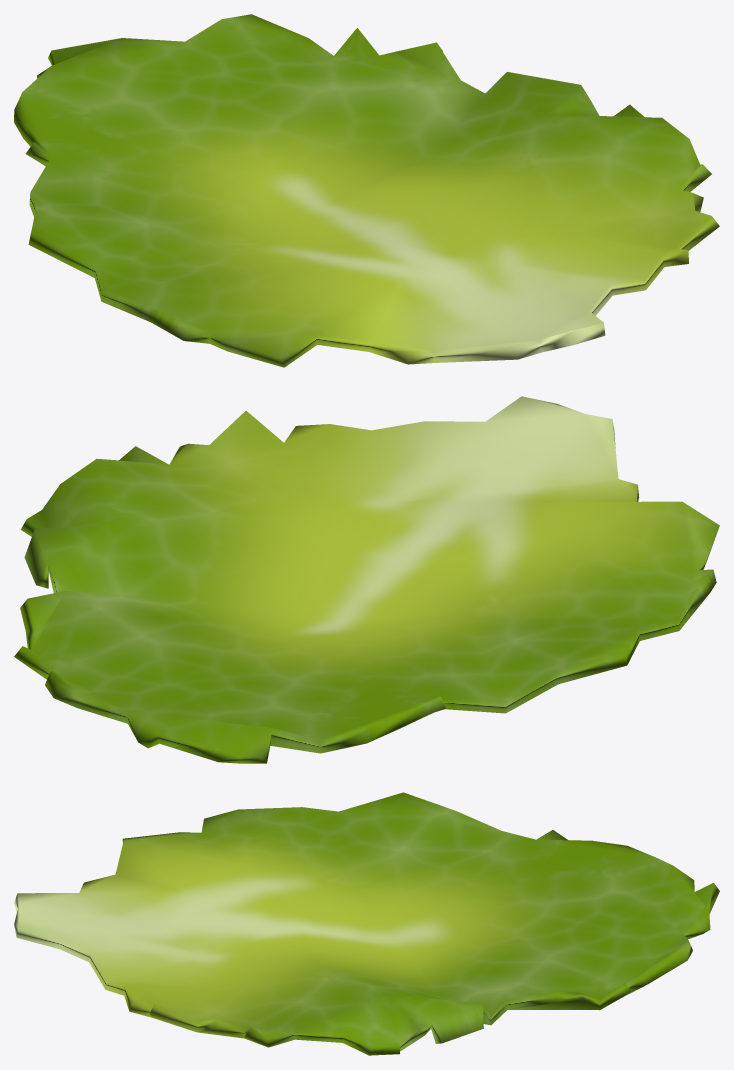
File: CabbageSlice_Shaped.fbx
3 views of the same model, one above another, from view 1: azimuth 30°, elevation 25°; view 2: azimuth 150°, elevation 25°; view 3: azimuth 270°, elevation 25° (orthographic). The views are drawn at different scales.
Visible parts, largest first — view 1: Lettuce slice_shaped; view 2: Lettuce slice_shaped; view 3: Lettuce slice_shaped.
Boxes of the visible parts, box(x1,y1,x2,y2) form: Lettuce slice_shaped: box(14, 14, 719, 367); Lettuce slice_shaped: box(14, 396, 719, 763); Lettuce slice_shaped: box(14, 792, 719, 1055).
Bounding box in the file's own units: 15.23 × 1.36 × 18.85.
